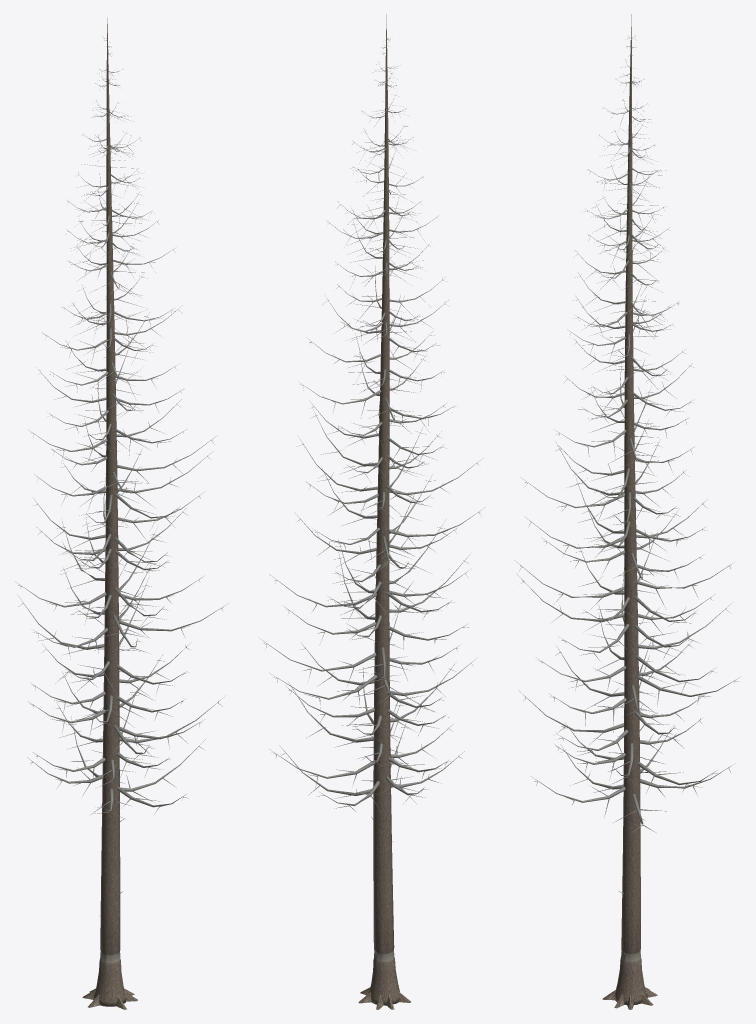
File: Sitka_RingBarked_01_Dead_LOD0.fbx
3 renders of one model, left to right at view 1: azimuth 30°, elevation 25°; view 2: azimuth 150°, elevation 25°; view 3: azimuth 270°, elevation 25°, orthographic.
Visible parts, largest first — view 1: Sitka_RingBarked_01_Dead_LOD0_Branches, Sitka_RingBarked_01_Dead_LOD0_Trunk; view 2: Sitka_RingBarked_01_Dead_LOD0_Branches, Sitka_RingBarked_01_Dead_LOD0_Trunk; view 3: Sitka_RingBarked_01_Dead_LOD0_Branches, Sitka_RingBarked_01_Dead_LOD0_Trunk.
Boxes of the visible parts, x1,y1,x2,y2 form: Sitka_RingBarked_01_Dead_LOD0_Branches: (15,37,228,916); Sitka_RingBarked_01_Dead_LOD0_Trunk: (82,17,137,1009); Sitka_RingBarked_01_Dead_LOD0_Branches: (259,38,485,917); Sitka_RingBarked_01_Dead_LOD0_Trunk: (358,14,410,1009); Sitka_RingBarked_01_Dead_LOD0_Branches: (514,35,739,893); Sitka_RingBarked_01_Dead_LOD0_Trunk: (602,14,657,1009).
Bounding box in the file's own units: 521 × 2600 × 546.
